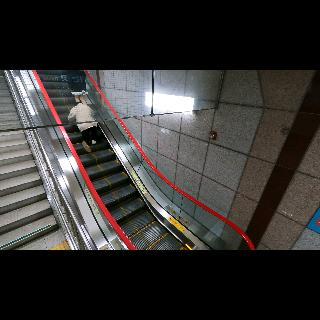anomaly: (64, 102, 100, 154)
normal: (64, 70, 90, 106)
